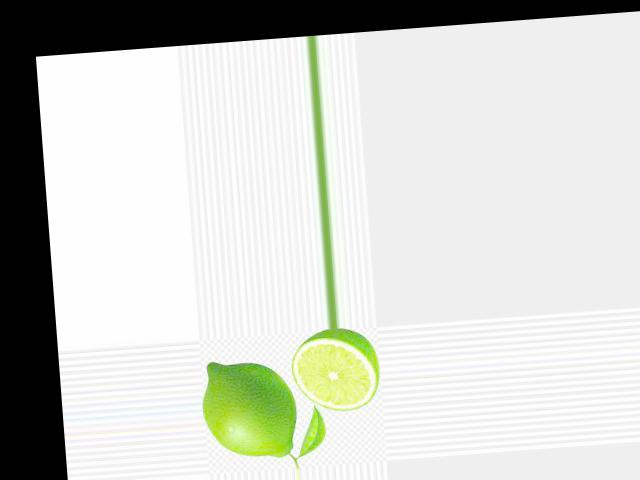lemon: (198, 347, 301, 464)
